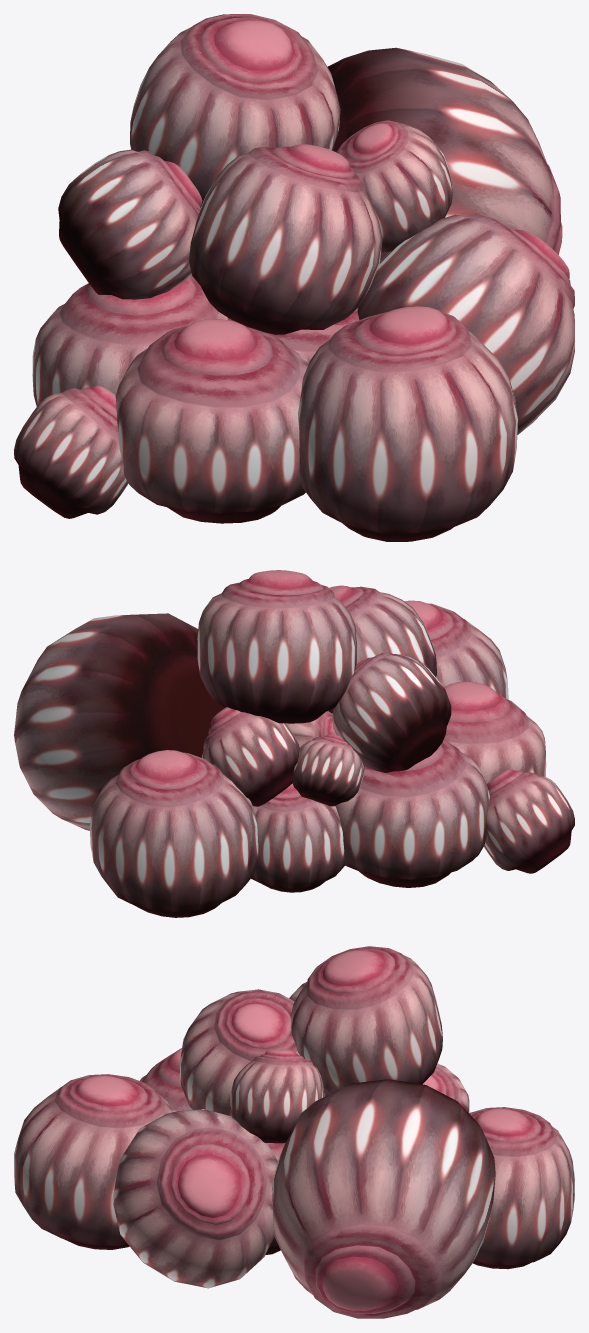
Rendered from Ore_Deposit_Red.glb.
3 renders of one model, top to bottom at view 1: azimuth 30°, elevation 25°; view 2: azimuth 150°, elevation 25°; view 3: azimuth 270°, elevation 25°, orthographic. The views are drawn at different scales.
Visible parts, largest first — view 1: Ore_Deposit_Red; view 2: Ore_Deposit_Red; view 3: Ore_Deposit_Red.
Part boxes in pixels (x1,y1,x2,y2): Ore_Deposit_Red: (14,14,574,541); Ore_Deposit_Red: (14,570,574,917); Ore_Deposit_Red: (14,946,574,1318).
Size of the model in its own units: 0.4416 by 0.2593 by 0.4603.
Materials: 1 (1 with a texture image).
